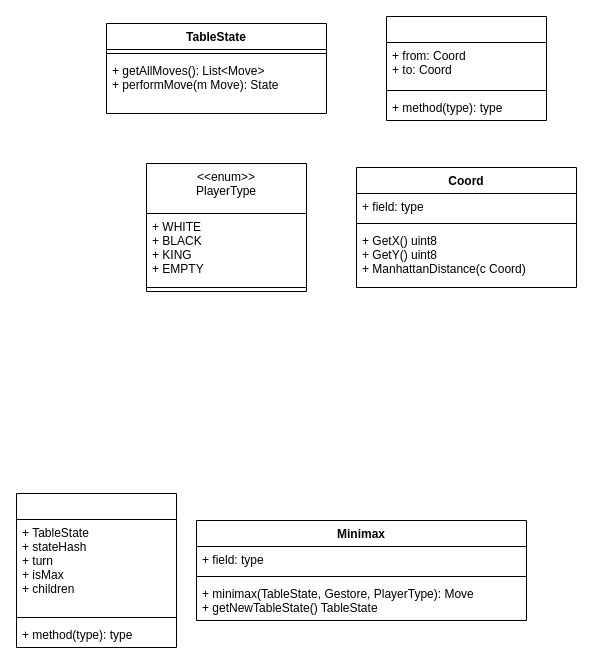
This 593x664 diagram has some shape labels left out. Here are the shapes that lost their labels. From the top down, the box of each, then its label:
(386, 16, 546, 120): Move
(16, 492, 176, 648): Node
